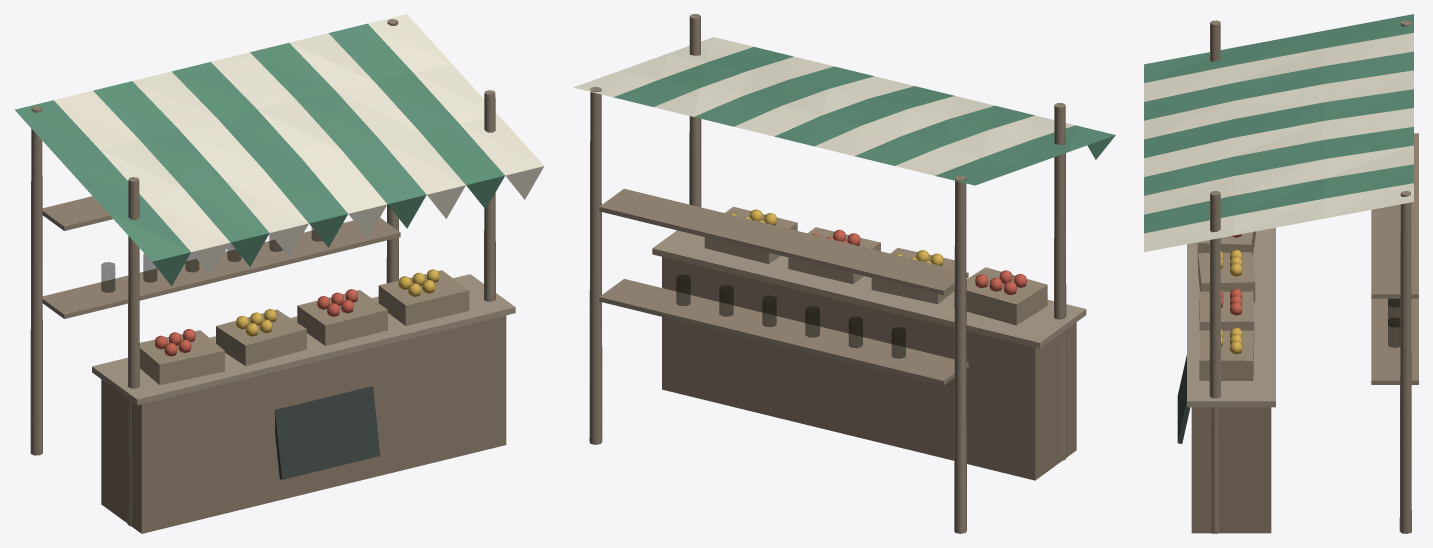
Rendered from festival_stall_a.glb.
3 views of the same model, side by side, from view 1: azimuth 30°, elevation 25°; view 2: azimuth 150°, elevation 25°; view 3: azimuth 270°, elevation 25° (orthographic). The views are drawn at different scales.
Parts seen in each view (by area): view 1: body; view 2: body; view 3: body.
Boxes of the visible parts, x1,y1,x2,y2 form: body: [15, 14, 544, 533]; body: [573, 14, 1115, 533]; body: [1144, 14, 1418, 533].
Size of what is drawn, in the model's own units: 2.8 by 2.35 by 1.73.
